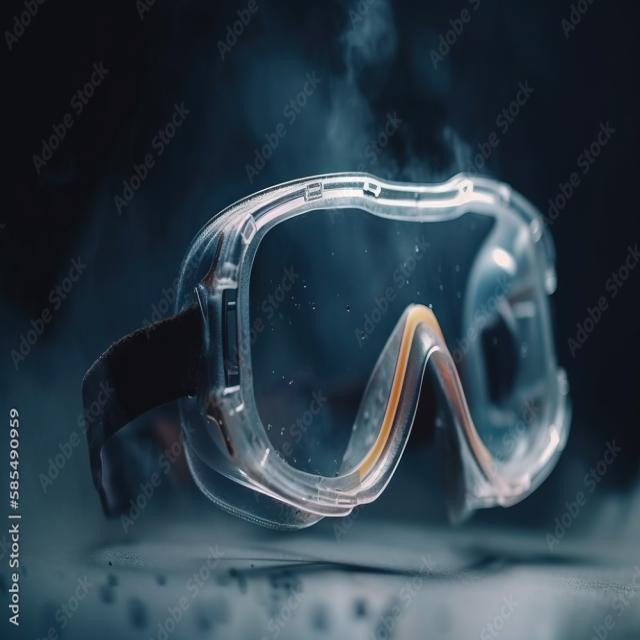Goggles: (86, 143, 605, 577)
